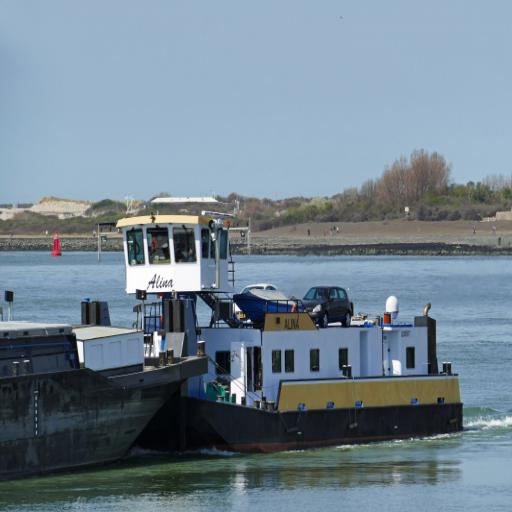tugboat: (73, 189, 473, 466)
